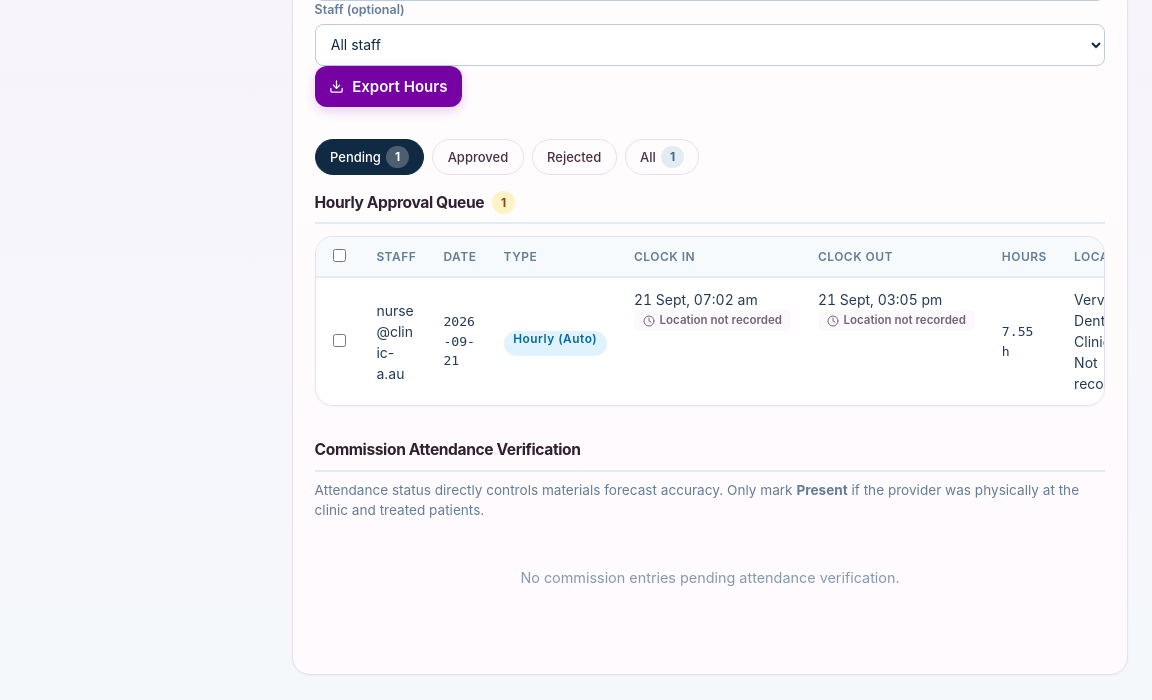
ApprovalQueue — per-row approver comment › deselecting a row removes its approver comment textarea
(page scrolled)
Expected: the cell "nurse@clinic-a.au" is shown, left=363, top=277, right=430, bottom=405
Click the checkbox named "select timesheet for": [340, 341] box left=333, top=334, right=346, bottom=347
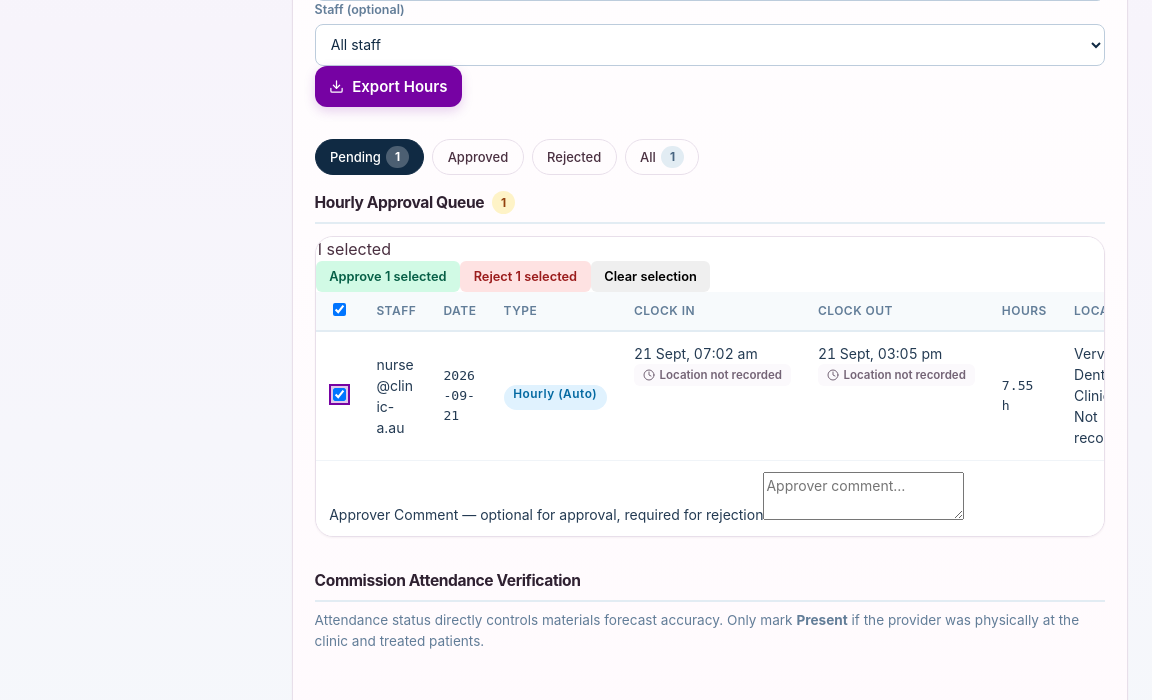
Expected: the number of text boxes labelled "Approver Comment" is 1, left=763, top=472, right=964, bottom=520
Click the checkbox named "select timesheet for": [340, 395] box left=333, top=388, right=346, bottom=402
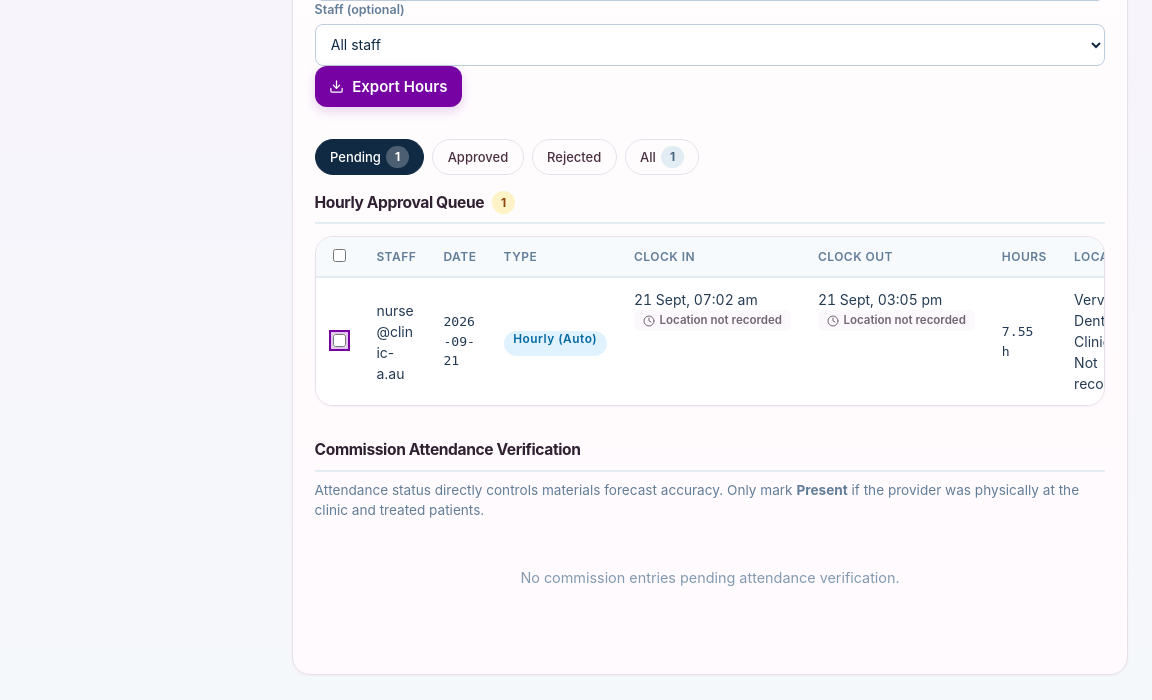
Expected: no labels labelled "Approver Comment" are shown
